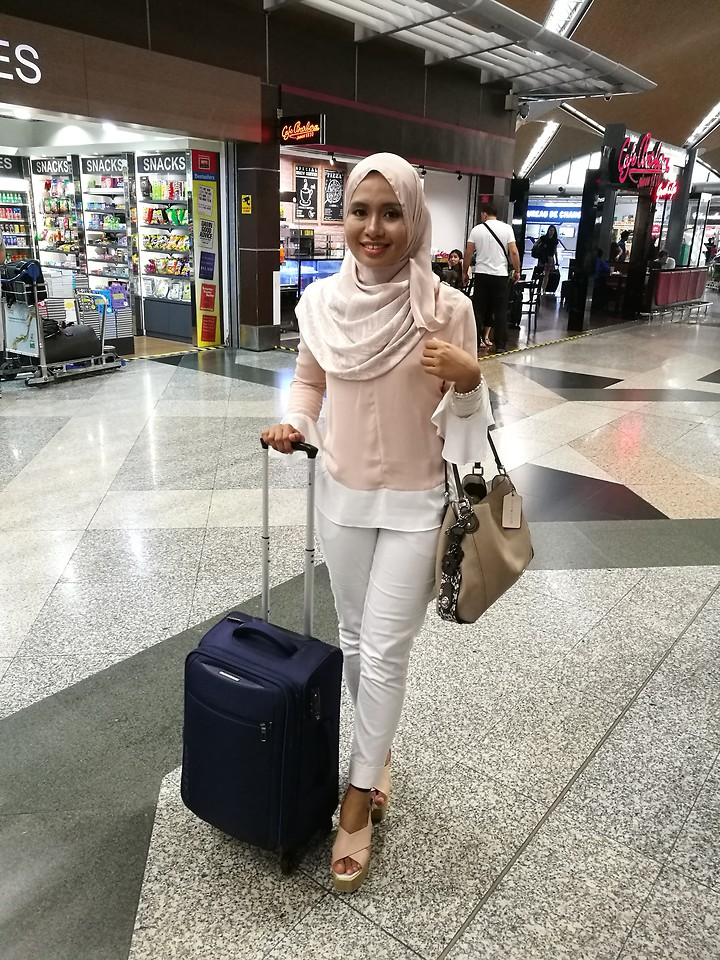luggage: (168, 420, 348, 881)
shoulder bag: (417, 371, 545, 635)
